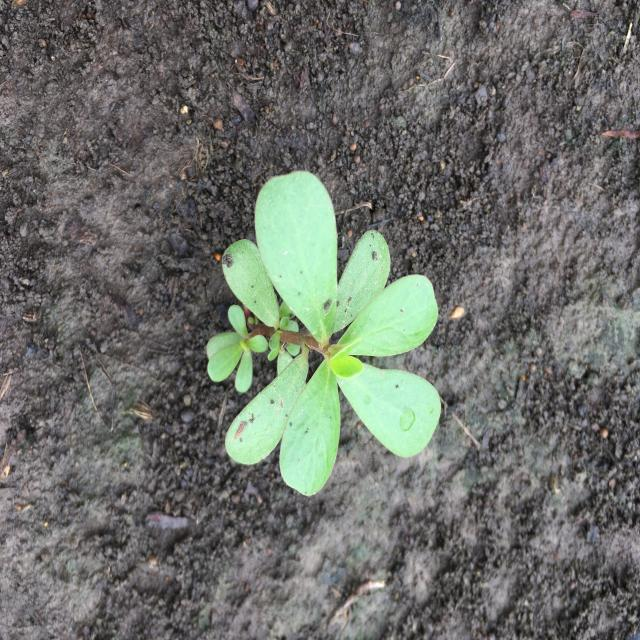Purslane: (206, 172, 442, 496)
